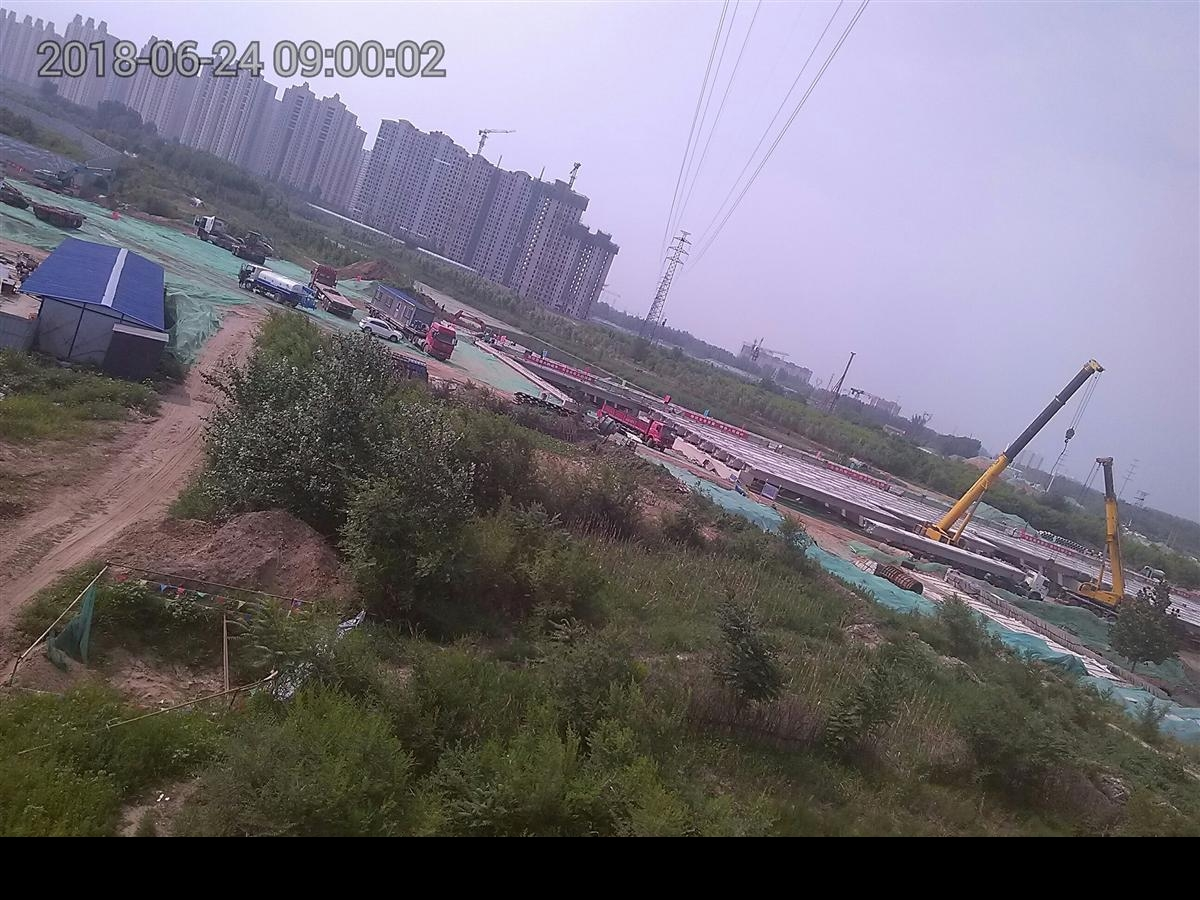DiaoChe: (918, 355, 1096, 540), (1077, 454, 1124, 613)
